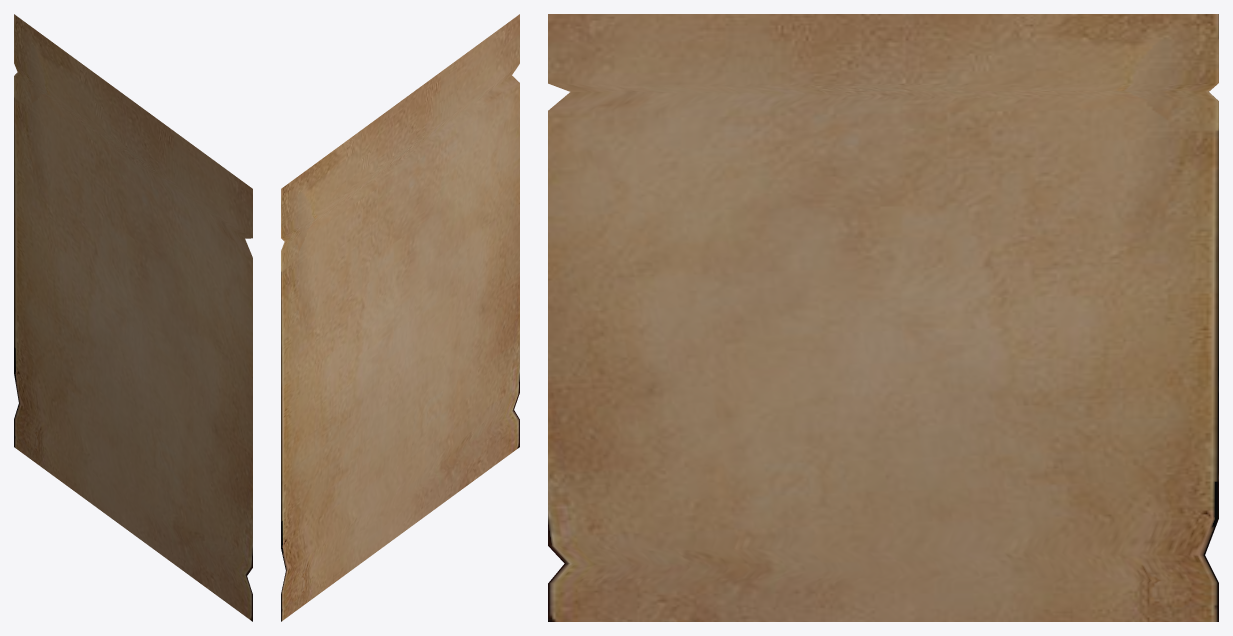
The model's file is list_3D.glb.
3 views of the same model, side by side, from view 1: azimuth 30°, elevation 25°; view 2: azimuth 150°, elevation 25°; view 3: azimuth 270°, elevation 25° (orthographic). The views are drawn at different scales.
Visible parts, largest first — view 1: Plane; view 2: Plane; view 3: Plane.
Boxes of the visible parts, x1,y1,x2,y2 form: Plane: (14,14,252,621); Plane: (281,14,519,621); Plane: (548,14,1218,621).
Bounding box in the file's own units: 3.37e-07 × 2 × 2.
1 material, 1 textured.
